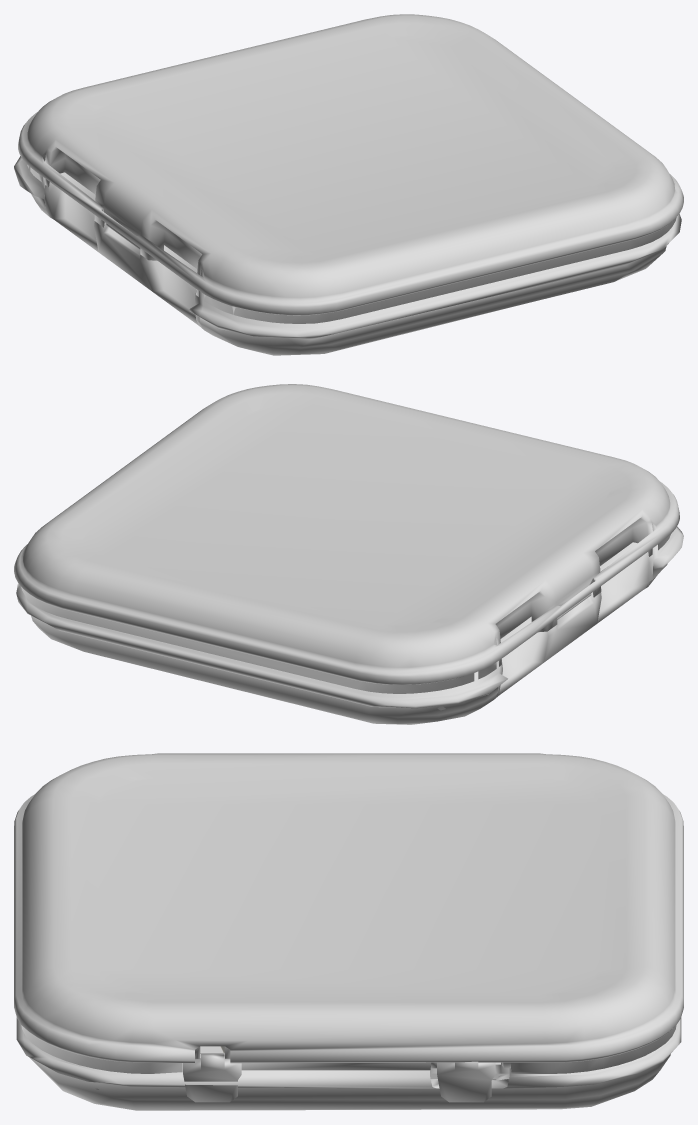
The model's file is tentacle-nails.glb.
The picture shows the model from 3 angles, top to bottom: view 1: azimuth 30°, elevation 25°; view 2: azimuth 150°, elevation 25°; view 3: azimuth 270°, elevation 25°; orthographic projection. The views are drawn at different scales.
Visible parts, largest first — view 1: case; view 2: case; view 3: case.
Boxes of the visible parts, x1,y1,x2,y2 form: case: [14, 14, 683, 355]; case: [14, 384, 683, 724]; case: [14, 753, 683, 1110].
Bounding box in the file's own units: 0.8439 × 0.1513 × 0.8443.
Materials: 2 (1 with a texture image).
